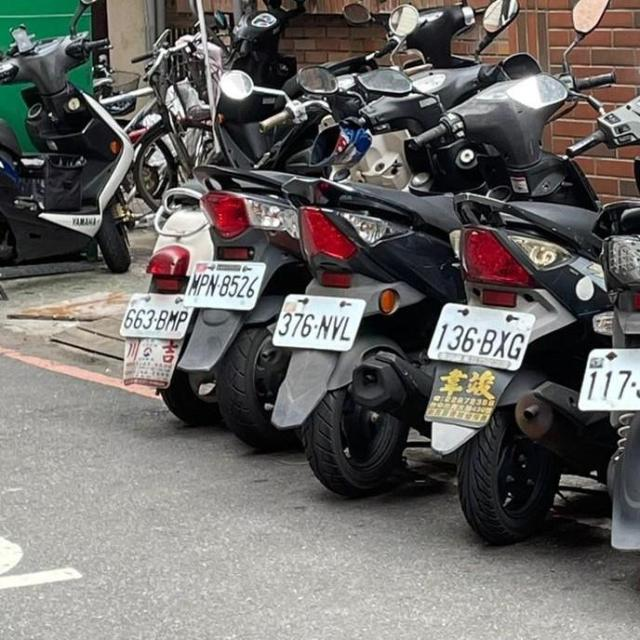W: (420, 296, 544, 376), (269, 290, 375, 358), (178, 251, 276, 314), (114, 283, 200, 348), (574, 343, 640, 420)
